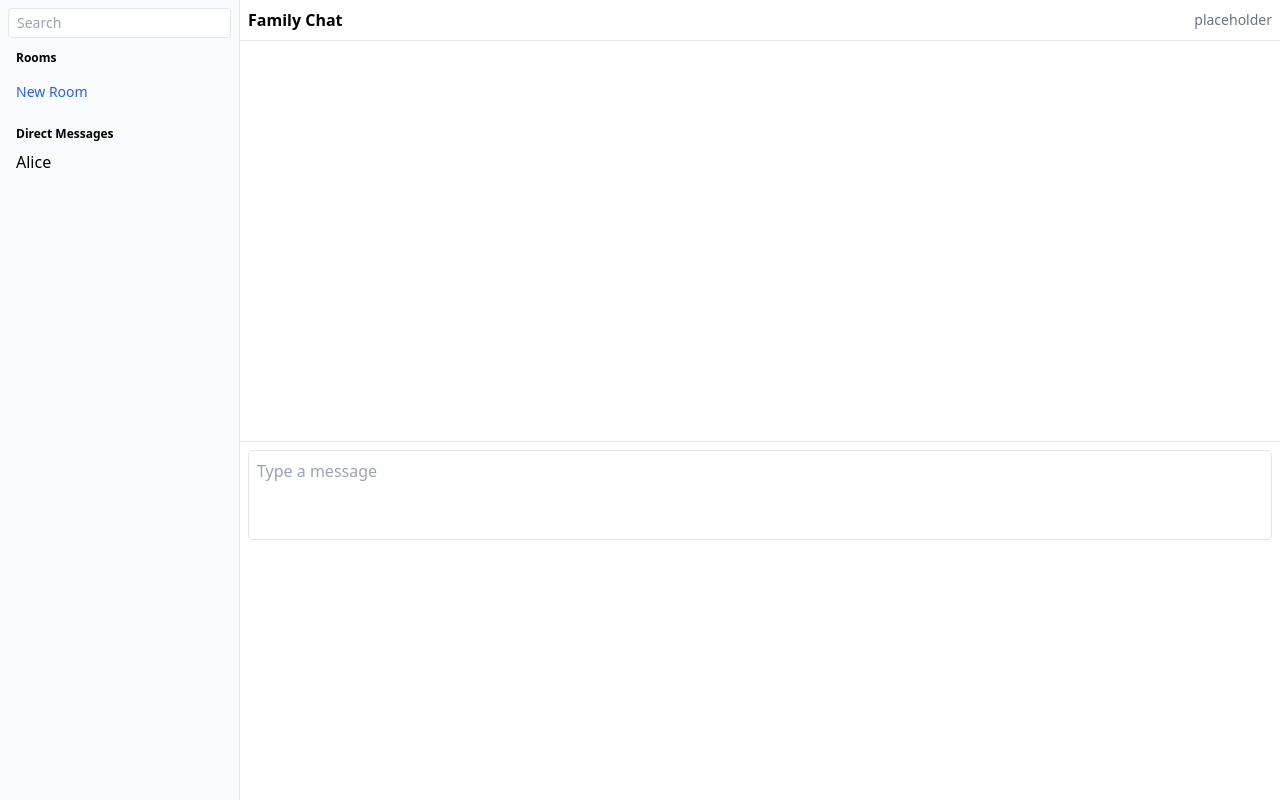
Scenario: sending a message shows it immediately
This screenshot has width=1280, height=800.
In the text box with placeholder "Type a message": (760, 495) [248, 450, 1272, 540], type "hello"
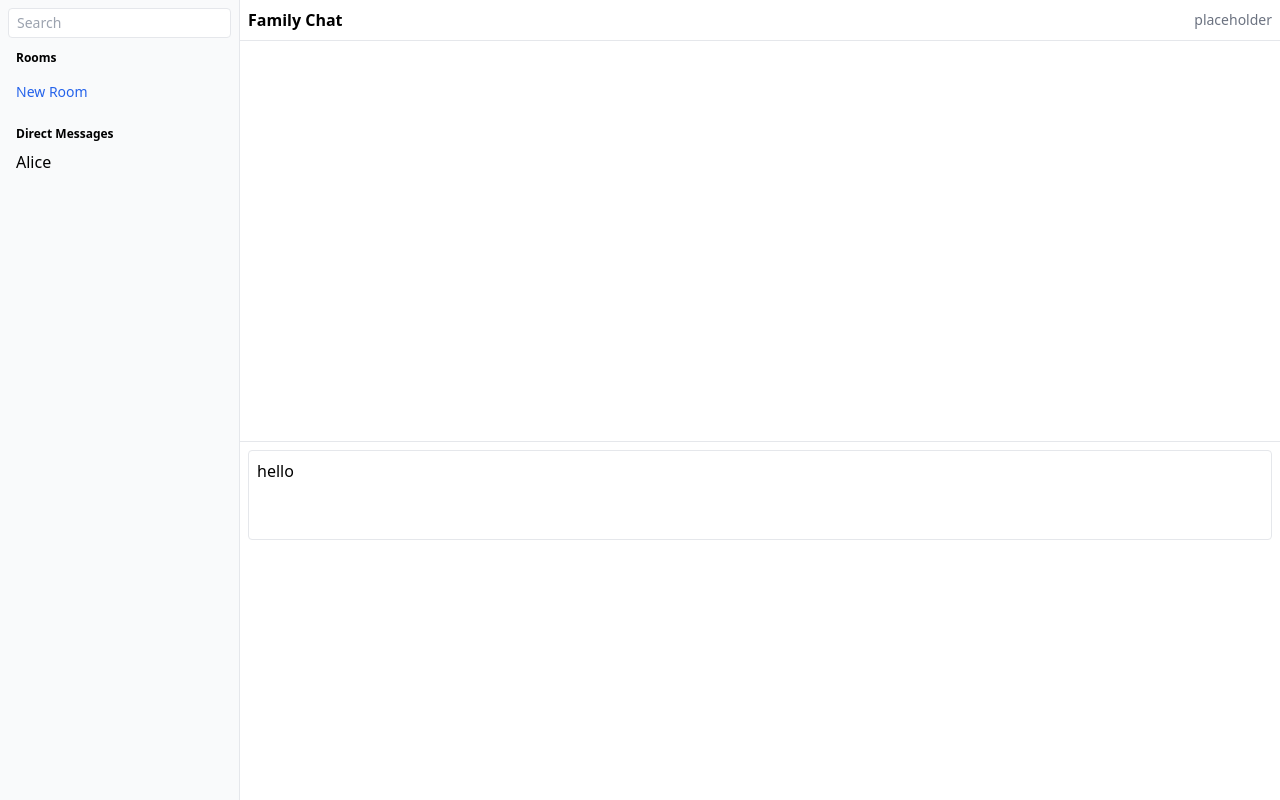
Press Enter in the text box with placeholder "Type a message", box [248, 450, 1272, 540]
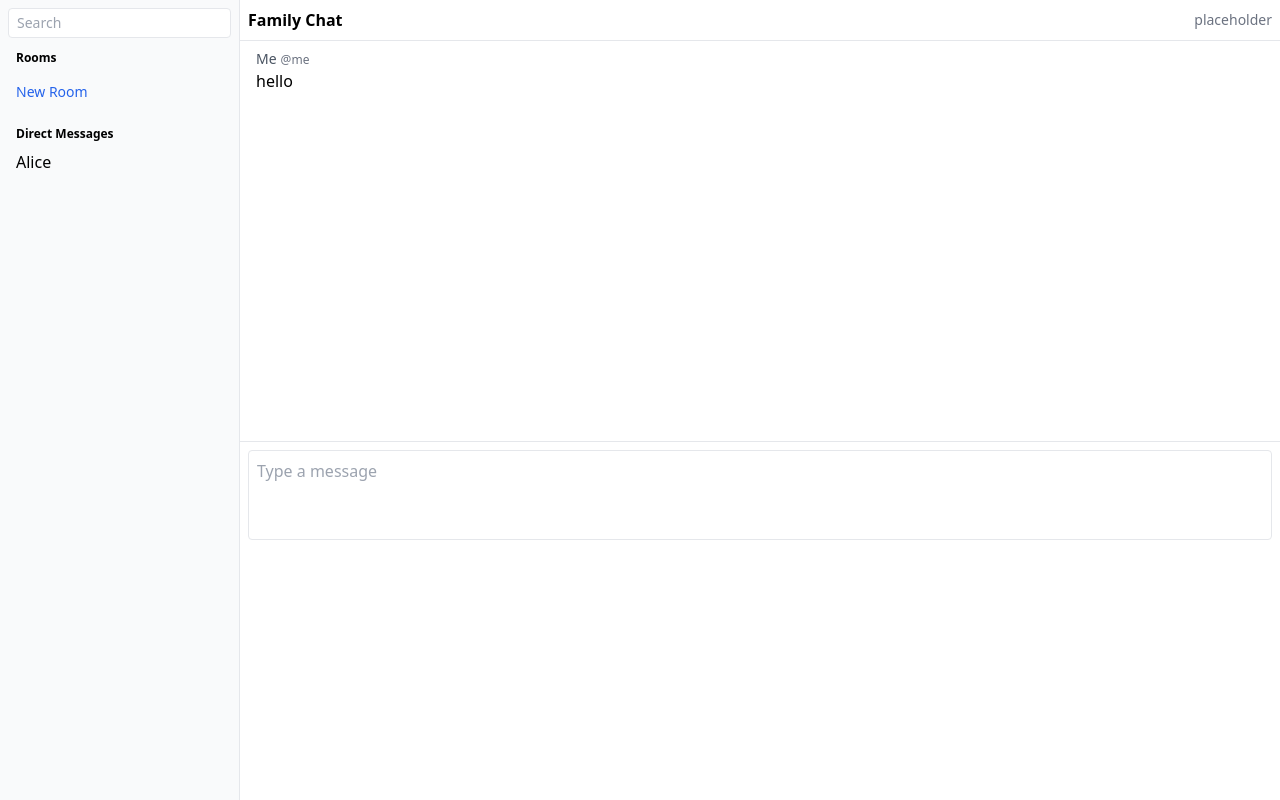
Check: the text "hello" is shown, box [256, 70, 293, 92]
